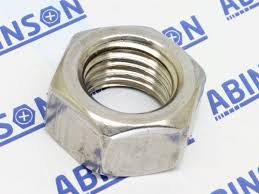Thread: (73, 37, 185, 118)
